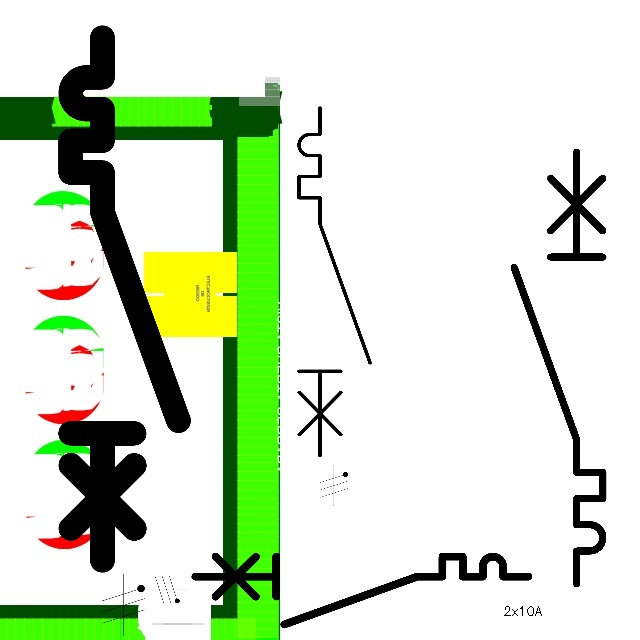interruptor_termomagnetico: (57, 24, 191, 574), (503, 141, 614, 595), (290, 99, 379, 464), (186, 548, 536, 633)
